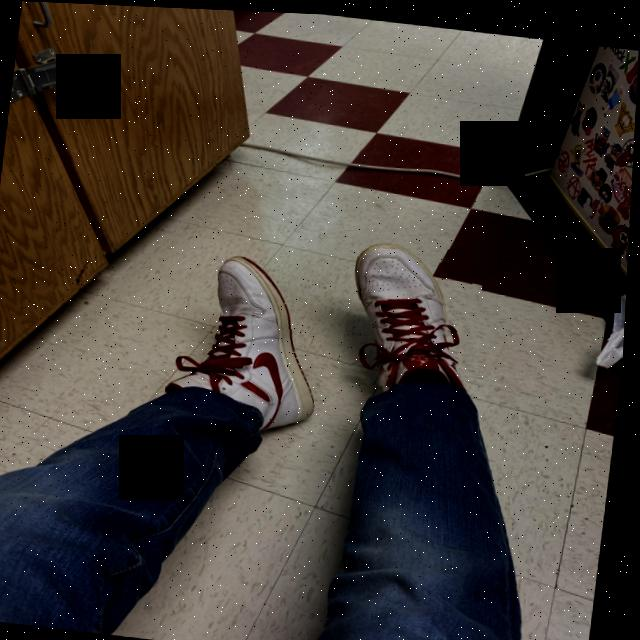shoe: (165, 245, 336, 438), (341, 234, 489, 393)
